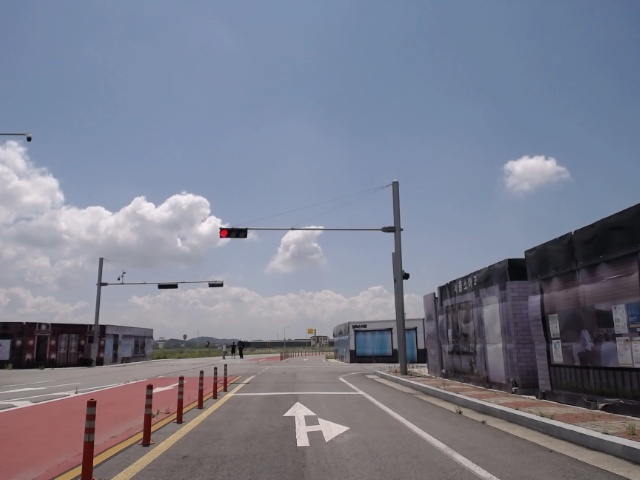red_3: (220, 227, 249, 240)
